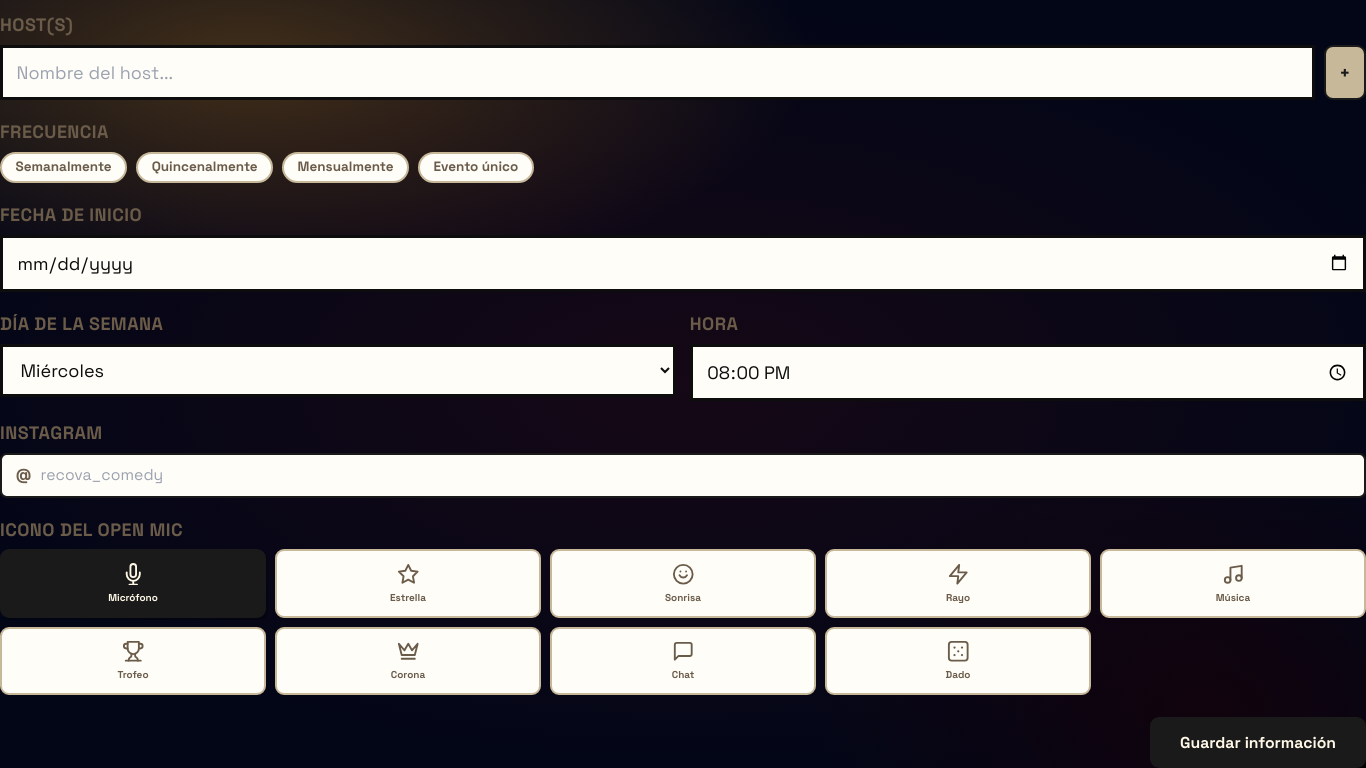
Scenario: InfoConfigurator — Sprint 13 › shows_popup_on_save_when_form_exists
(page scrolled)
Click the button "Guardar información" at (1258, 743), box [1150,717,1365,767]
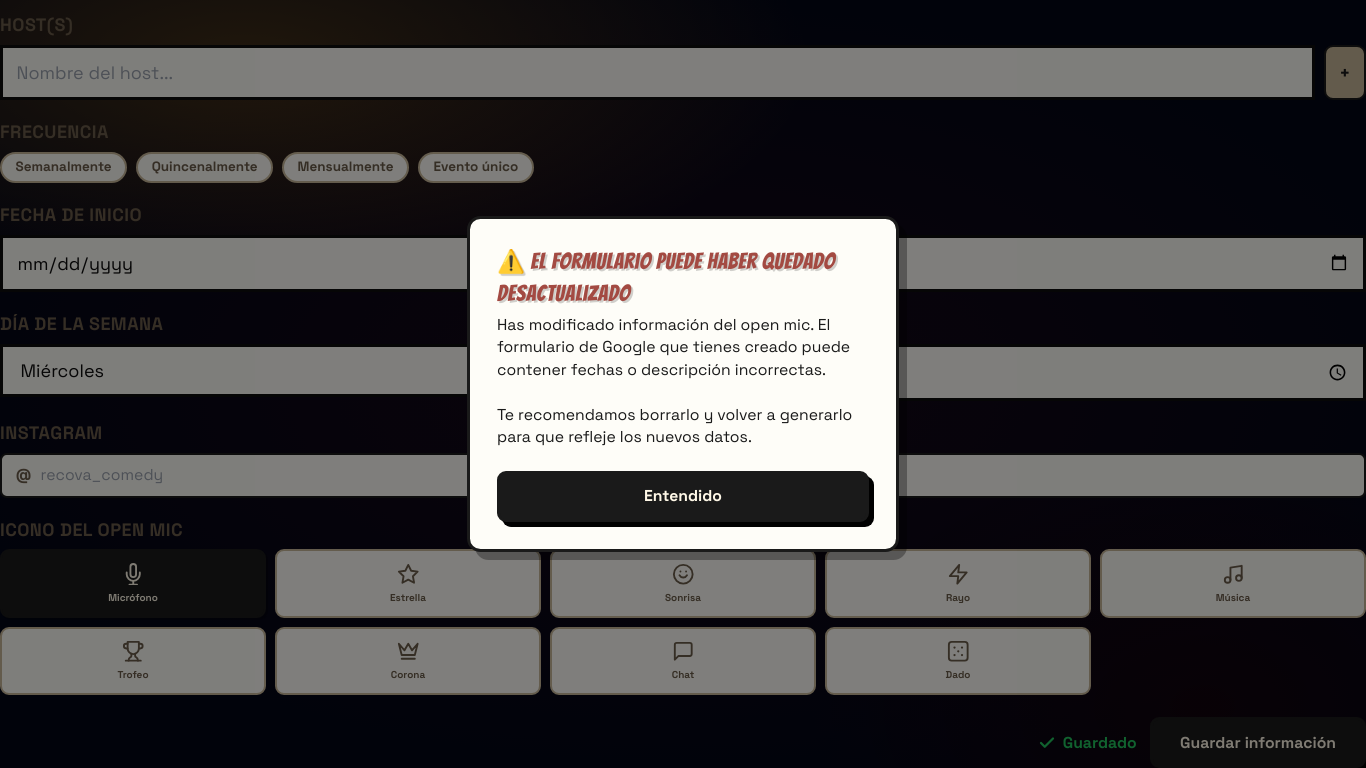
Result: the text "⚠️ El formulario puede haber quedado desactualizado" is shown at [497,246,869,309]
